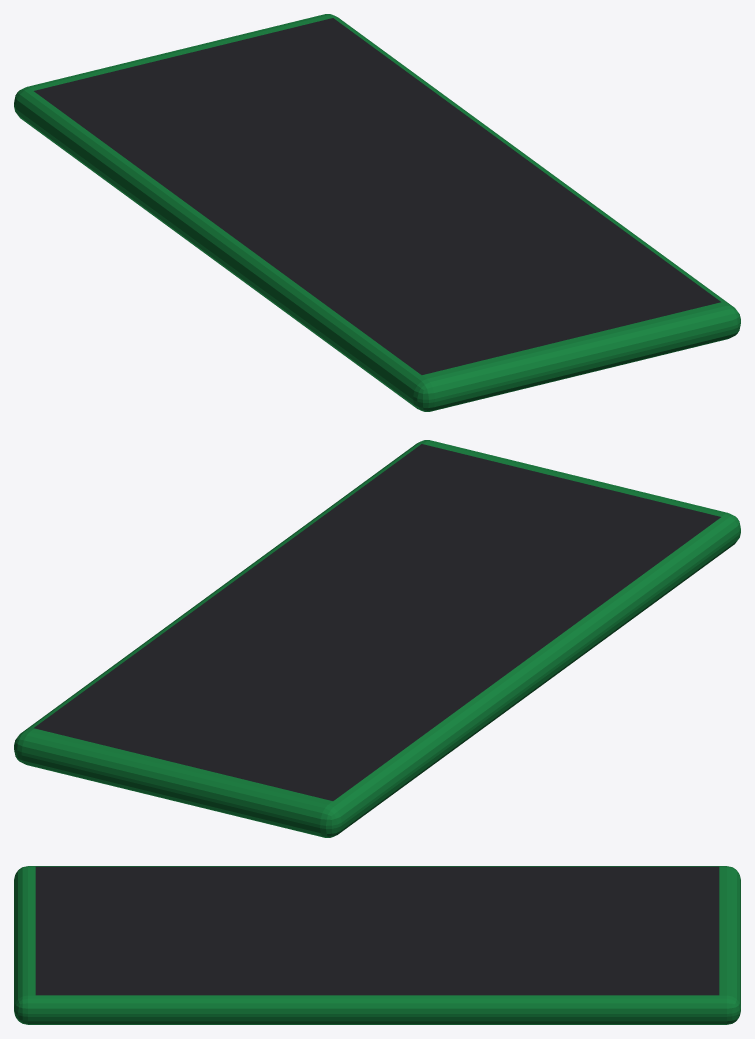
File: Phone_965.glb
3 renders of one model, top to bottom at view 1: azimuth 30°, elevation 25°; view 2: azimuth 150°, elevation 25°; view 3: azimuth 270°, elevation 25°, orthographic. The views are drawn at different scales.
Parts seen in each view (by area): view 1: Phone_Screen, Phone_Body; view 2: Phone_Screen, Phone_Body; view 3: Phone_Screen, Phone_Body.
Boxes of the visible parts, x1,y1,x2,y2 form: Phone_Screen: (34, 18, 720, 374); Phone_Body: (14, 14, 740, 411); Phone_Screen: (34, 444, 720, 800); Phone_Body: (14, 440, 740, 837); Phone_Screen: (35, 866, 719, 995); Phone_Body: (14, 866, 740, 1024).
Size of the model in its own units: 0.0769 by 0.0073 by 0.1689.
